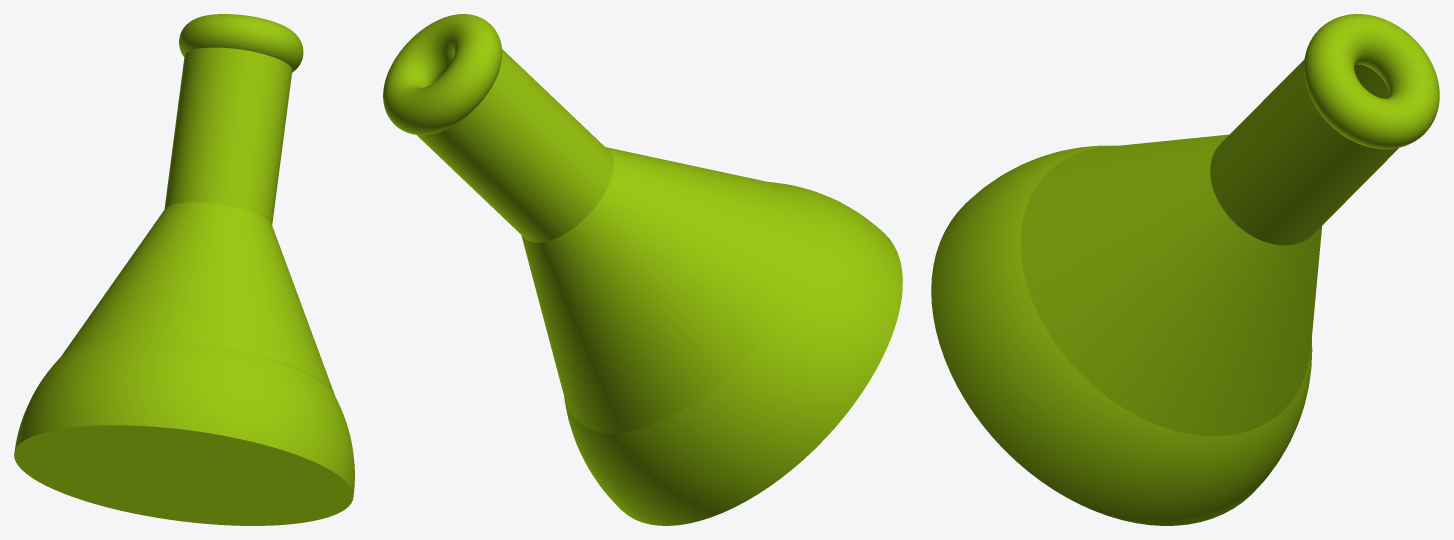
The model's file is flask.glb.
3 renders of one model, left to right at view 1: azimuth 30°, elevation 25°; view 2: azimuth 150°, elevation 25°; view 3: azimuth 270°, elevation 25°, orthographic. The views are drawn at different scales.
Visible parts, largest first — view 1: mesh_id31, mesh_id29, mesh_id27, mesh_id59; view 2: mesh_id29, mesh_id31, mesh_id27, mesh_id59; view 3: mesh_id29, mesh_id31, mesh_id27, mesh_id59.
Part boxes in pixels (left/top/right/bottom): mesh_id31: left=14, top=341, right=354, bottom=525; mesh_id29: left=61, top=202, right=334, bottom=394; mesh_id27: left=164, top=47, right=292, bottom=224; mesh_id59: left=179, top=14, right=303, bottom=72; mesh_id29: left=521, top=147, right=807, bottom=433; mesh_id31: left=564, top=182, right=902, bottom=525; mesh_id27: left=417, top=49, right=613, bottom=242; mesh_id59: left=383, top=14, right=502, bottom=135; mesh_id29: left=1020, top=134, right=1321, bottom=436; mesh_id31: left=931, top=145, right=1312, bottom=525; mesh_id27: left=1210, top=59, right=1398, bottom=245; mesh_id59: left=1304, top=14, right=1439, bottom=149.
Bounding box in the file's own units: 0.4596 × 0.564 × 0.4821.
4 materials, 4 textured.
